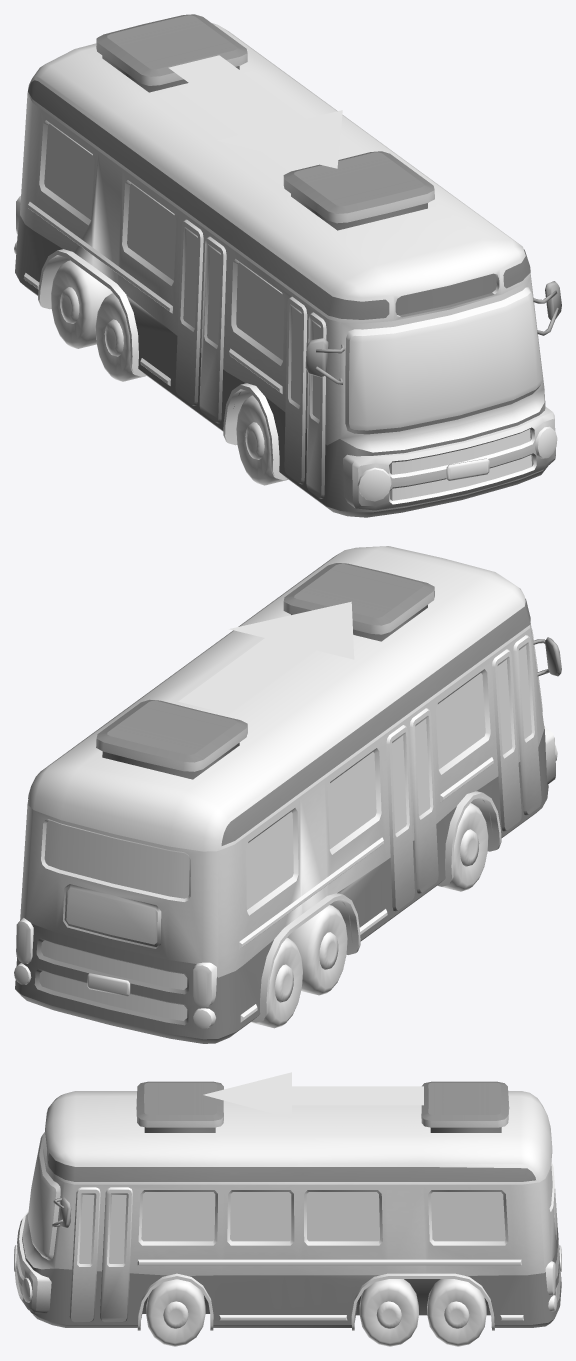
Rendered from cpi_2 2 Bus_TenSeater.fbx.
3 renders of one model, top to bottom at view 1: azimuth 30°, elevation 25°; view 2: azimuth 150°, elevation 25°; view 3: azimuth 270°, elevation 25°, orthographic. The views are drawn at different scales.
Visible parts, largest first — view 1: Bus_roof__Removable__color, Bus_body_color, windows, Bus_additional_stuff, Arrow, Wheel_R_R, Wheel_M_R, Wheel_F_R; view 2: Bus_roof__Removable__color, Bus_body_color, windows, Bus_additional_stuff, Arrow, Wheel_M_R, Wheel_F_R, Wheel_R_R; view 3: Bus_roof__Removable__color, Bus_body_color, windows, Bus_additional_stuff, Arrow, Wheel_M_L, Wheel_R_L, Wheel_F_L.
Part boxes in pixels (box(x1,y1,x2,y2)): Bus_roof__Removable__color: box(27, 14, 530, 323); Bus_body_color: box(15, 93, 561, 517); windows: box(39, 120, 542, 434); Bus_additional_stuff: box(14, 196, 557, 501); Arrow: box(168, 55, 342, 168); Wheel_R_R: box(51, 260, 112, 348); Wheel_M_R: box(95, 293, 145, 381); Wheel_F_R: box(236, 395, 287, 485); Bus_roof__Removable__color: box(27, 546, 530, 851); Bus_body_color: box(15, 623, 561, 1043); windows: box(41, 628, 542, 915); Bus_additional_stuff: box(14, 744, 557, 1028); Arrow: box(178, 601, 354, 713); Wheel_M_R: box(287, 905, 347, 995); Wheel_F_R: box(438, 803, 488, 891); Wheel_R_R: box(251, 937, 302, 1028); Bus_roof__Removable__color: box(43, 1081, 552, 1184); Bus_body_color: box(15, 1148, 561, 1327); windows: box(28, 1132, 554, 1266); Bus_additional_stuff: box(14, 1245, 561, 1330); Arrow: box(203, 1072, 423, 1118); Wheel_M_L: box(359, 1279, 418, 1346); Wheel_R_L: box(427, 1279, 486, 1346); Wheel_F_L: box(146, 1279, 205, 1346).
Size of the model in its own units: 102 by 105 by 249.
